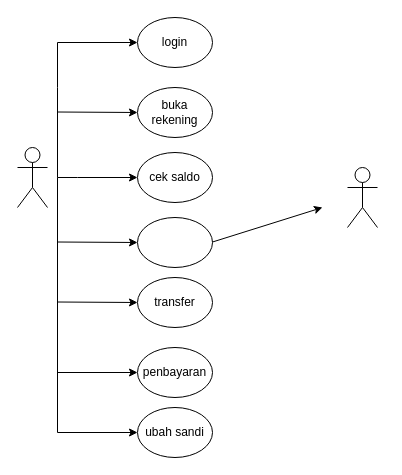
Image size: 402x475. Some labels were removed from this diagram. Here are the shapes that lost their labels. From the top down, the centre of each, then its label:
[32,177]: user
[362,197]: user lain
[174,242]: req tf uang
